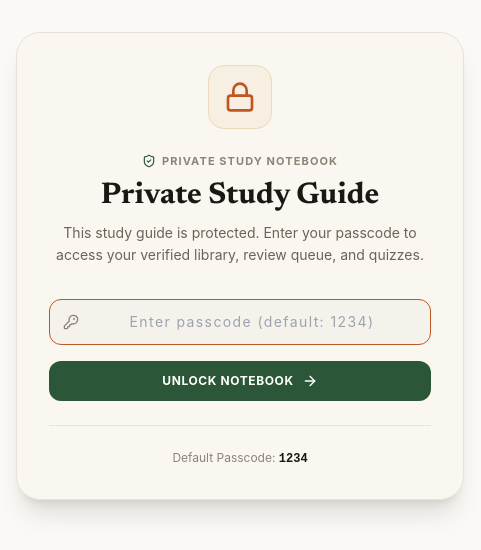
Test: Living Study Guide End-to-End UI & Main Page Verification › protects content behind PrivateLockScreen and unlocks with valid passcode
The width and height of the screenshot is (481, 550).
Earlier steps of the test are not shown.
Later steps or results of the test are not shown.
Expected: the heading "Private Study Guide" is shown, [101,180,379,210]
Type "0000" into the password field with placeholder "Enter passcode (default: 1234)" at (240, 322), box [49,299,431,345]
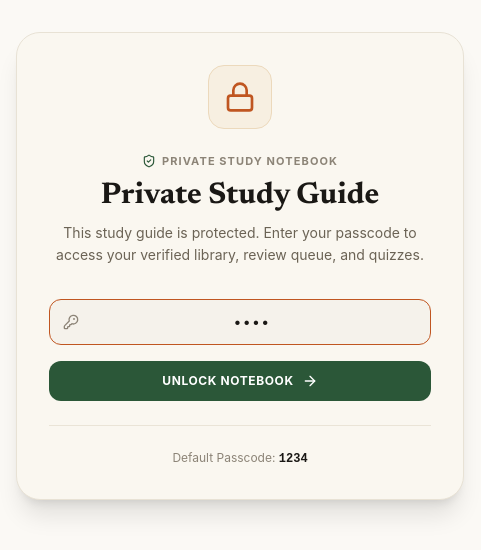
Click the button "Unlock Notebook" at (240, 381), box [49,361,431,401]
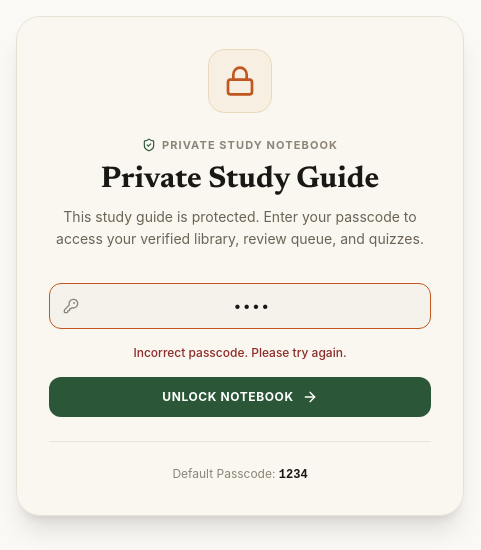
Now the text "Incorrect passcode. Please try again." is shown, box [133,345,346,360]
